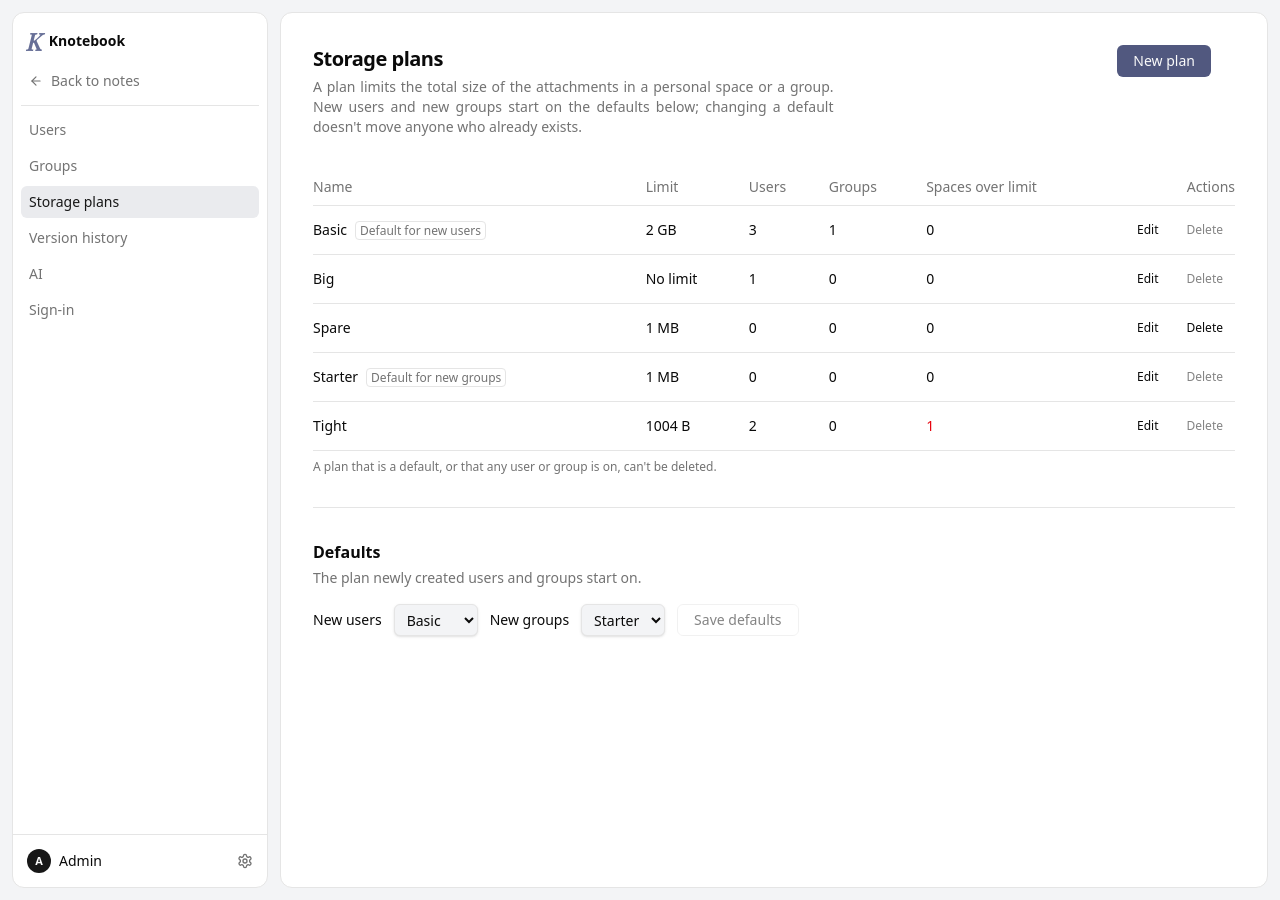
Test: /admin/storage（儲存方案頁） › 編輯無上限的 Big 改成有限（5 GB）→ 出現調低說明
Click the button with aria-label "Edit Big": (1148,279) x1=1125 y1=263 x2=1170 y2=295
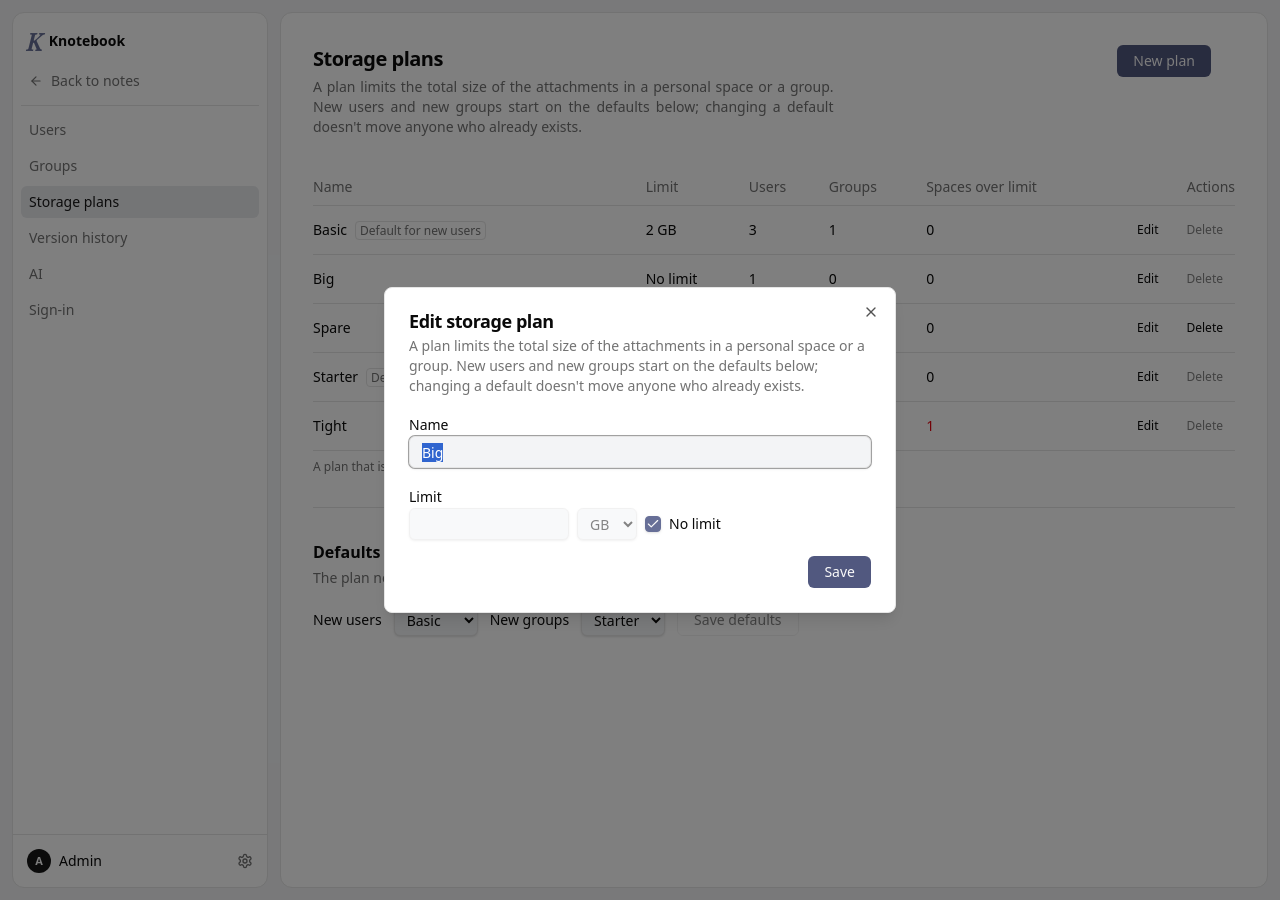
Check: the text "Lowering the limit doesn't delete any files" is not shown
Click the checkbox named "No limit": (653,524) x1=645 y1=516 x2=661 y2=532
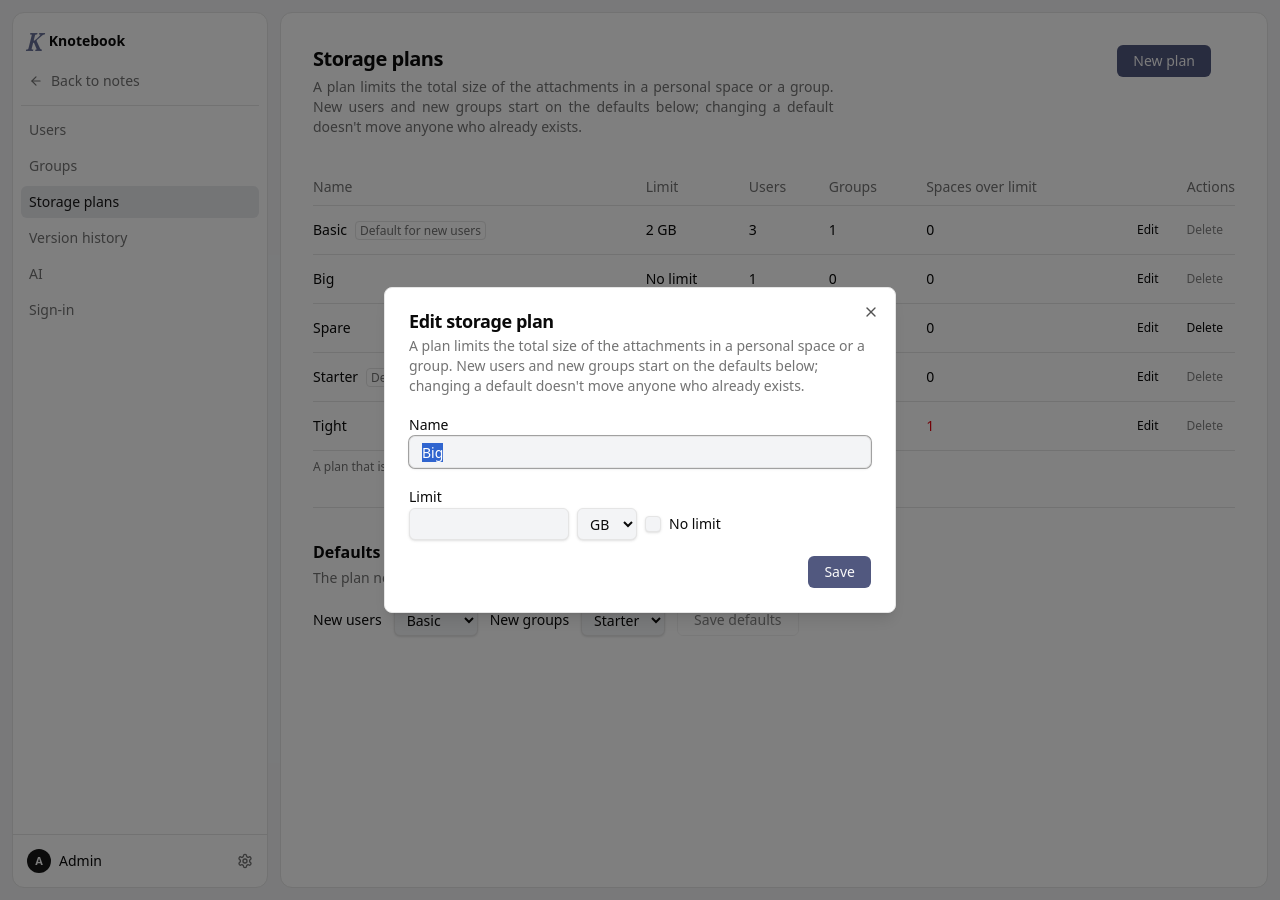
In the field labelled "Limit": (489,524) x1=409 y1=508 x2=569 y2=540, type "5"
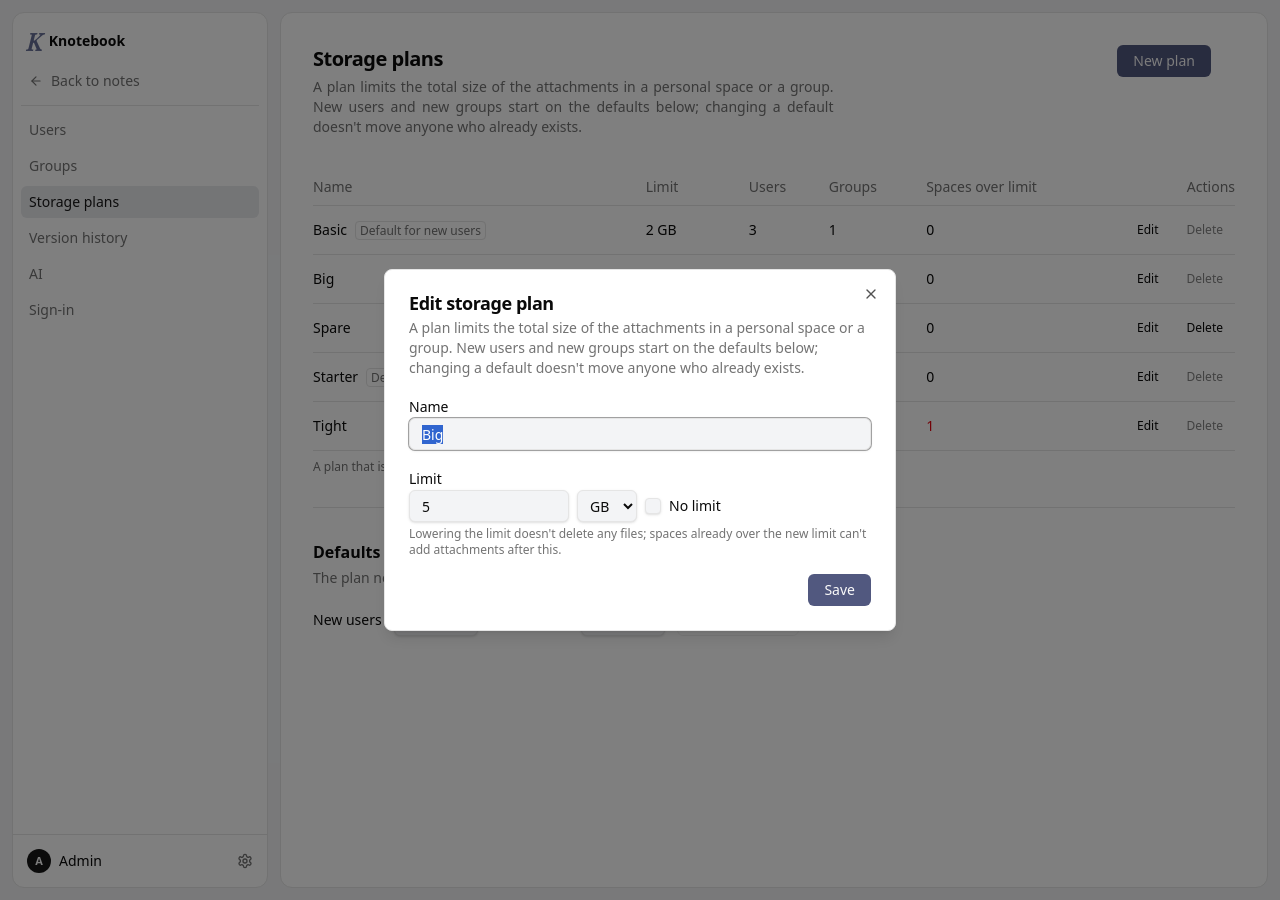
Check: the text "Lowering the limit doesn't delete any files" is shown, box x1=409 y1=525 x2=866 y2=558
